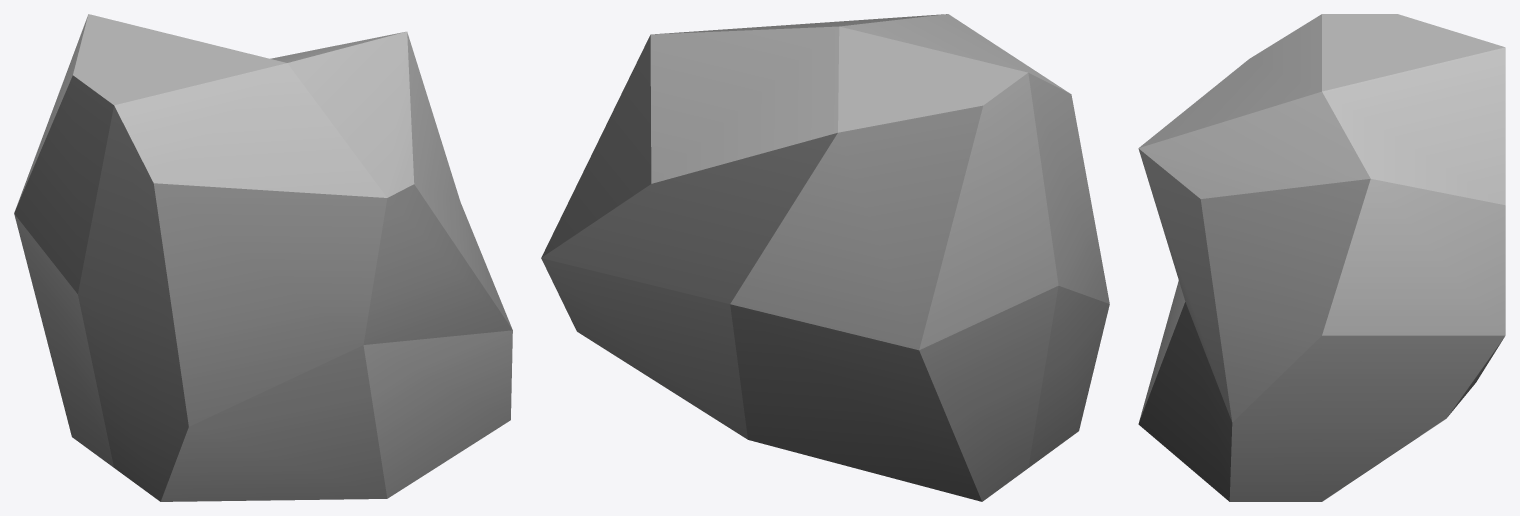
File: rock_06.fbx
3 views of the same model, side by side, from view 1: azimuth 30°, elevation 25°; view 2: azimuth 150°, elevation 25°; view 3: azimuth 270°, elevation 25° (orthographic). The views are drawn at different scales.
Parts seen in each view (by area): view 1: rock_06; view 2: rock_06; view 3: rock_06.
Boxes of the visible parts, x1,y1,x2,y2 form: rock_06: [14, 14, 512, 501]; rock_06: [541, 14, 1109, 501]; rock_06: [1138, 14, 1505, 501].
Bounding box in the file's own units: 136 × 123 × 123.
